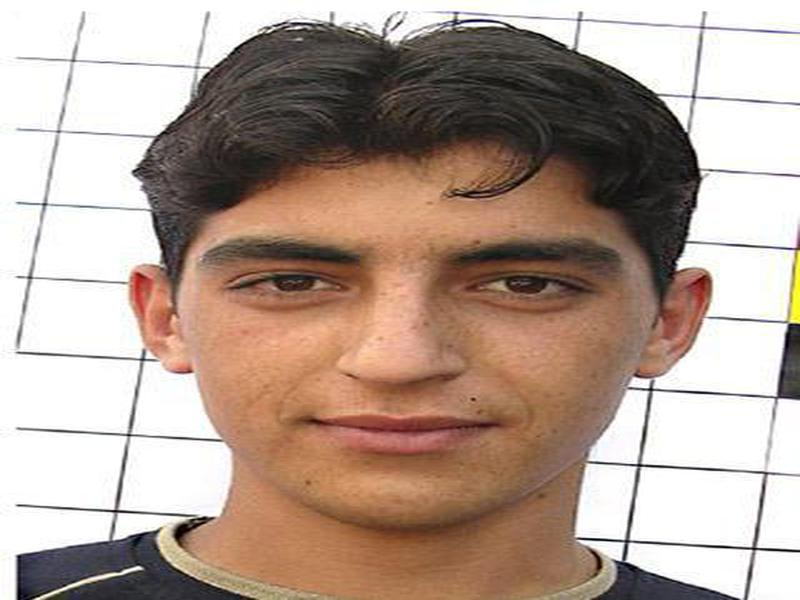without_mask: (176, 136, 655, 531)
